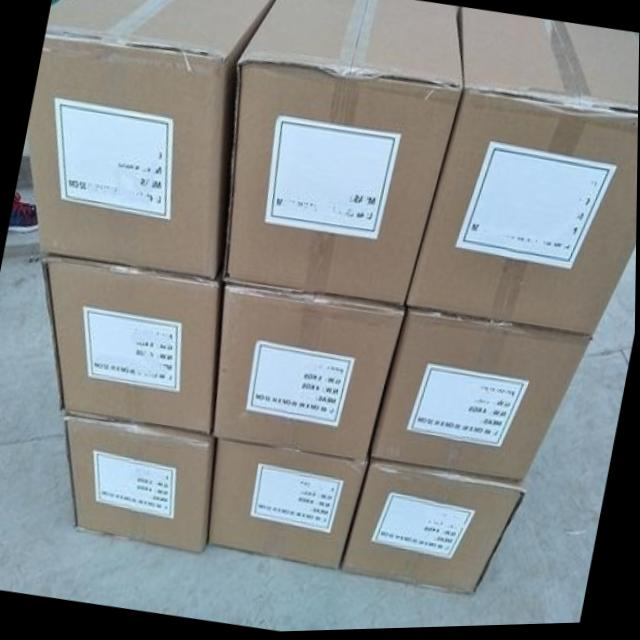box: (404, 9, 639, 339), (222, 0, 463, 307), (27, 0, 276, 280), (371, 306, 593, 483), (213, 282, 405, 462), (41, 252, 226, 434), (342, 455, 528, 595), (63, 414, 219, 553), (210, 438, 367, 571)
